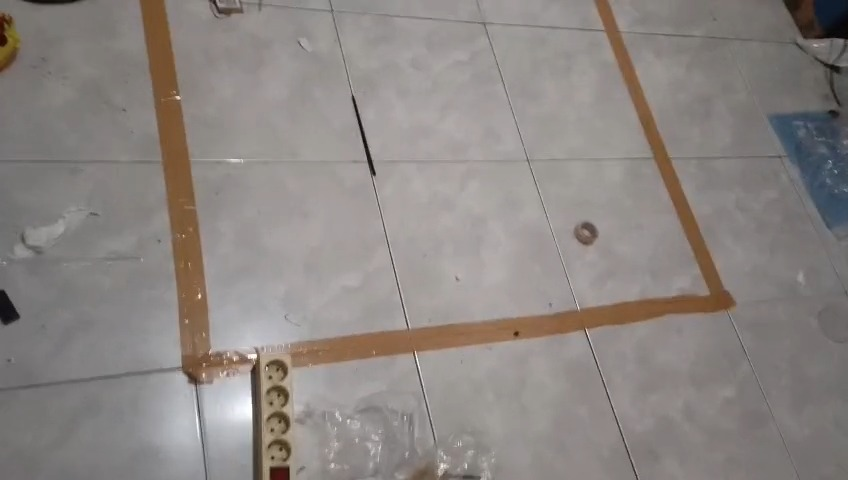floor marking: (139, 0, 735, 382)
